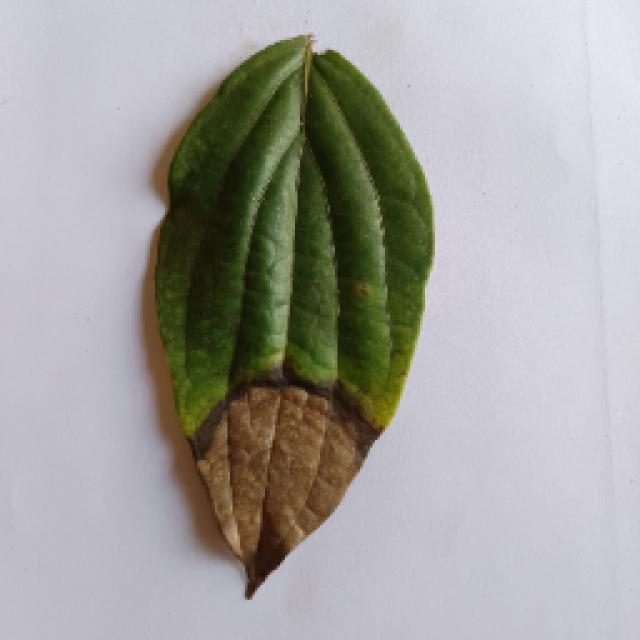footrot: (150, 38, 435, 600)
